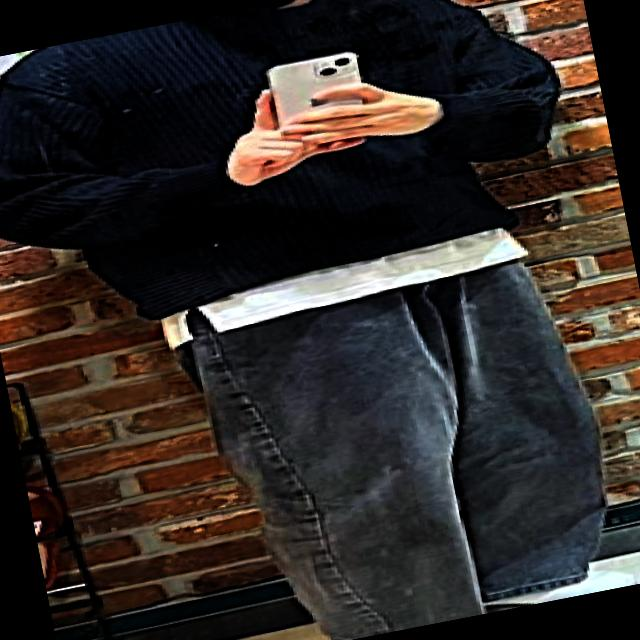denimpants: (177, 237, 632, 640)
sweater: (0, 0, 586, 346)
